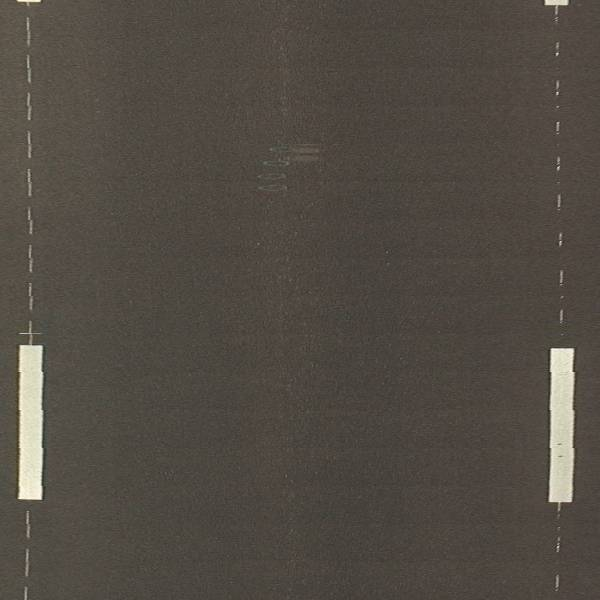road_damage: (247, 140, 295, 200)
